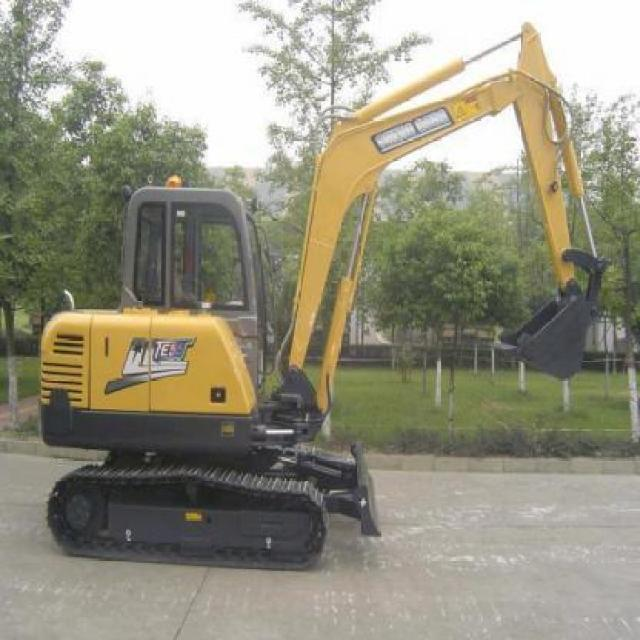Excavator: (16, 9, 606, 574)
